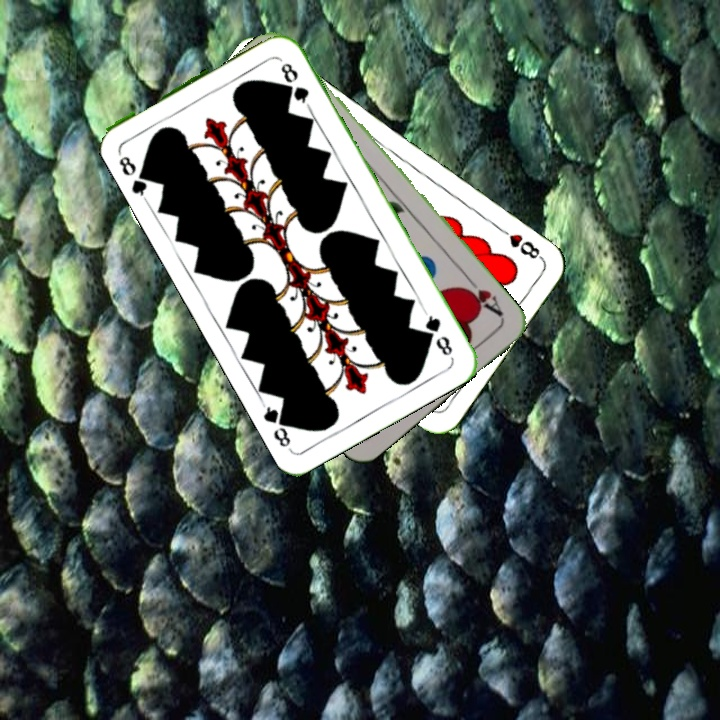G8: (113, 147, 155, 201), (420, 306, 455, 359)
H8: (494, 223, 546, 263)
HA: (457, 272, 506, 320)
